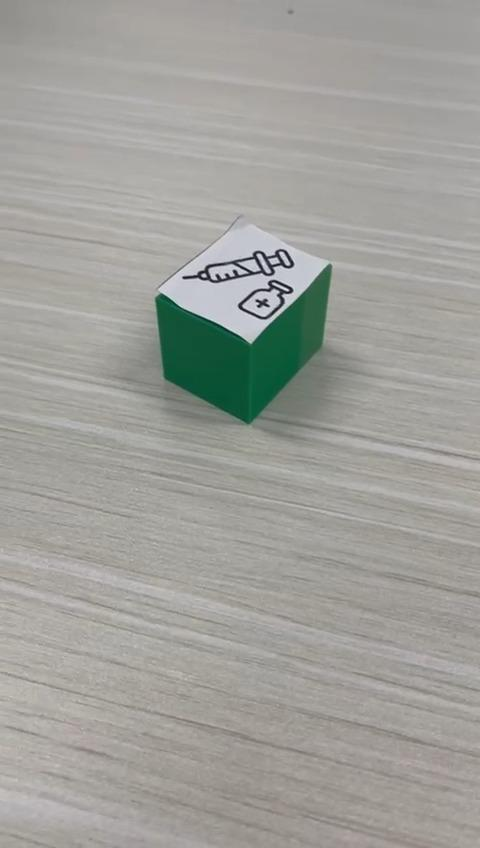antiseptic cream: (153, 213, 333, 425)
